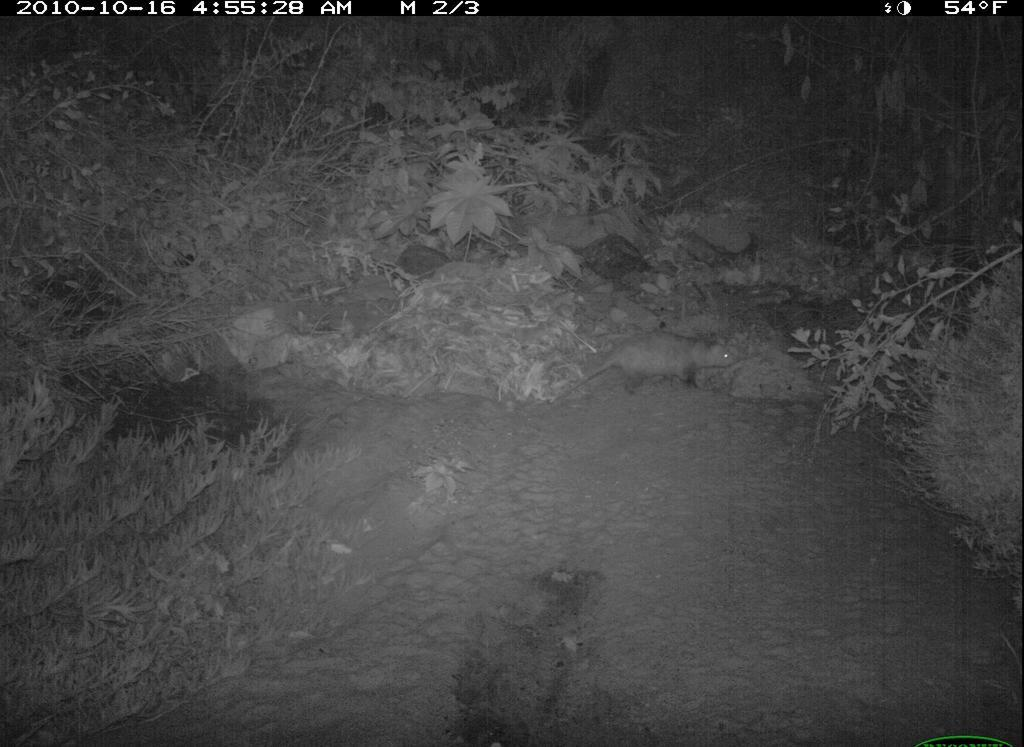opossum: (547, 315, 761, 418)
